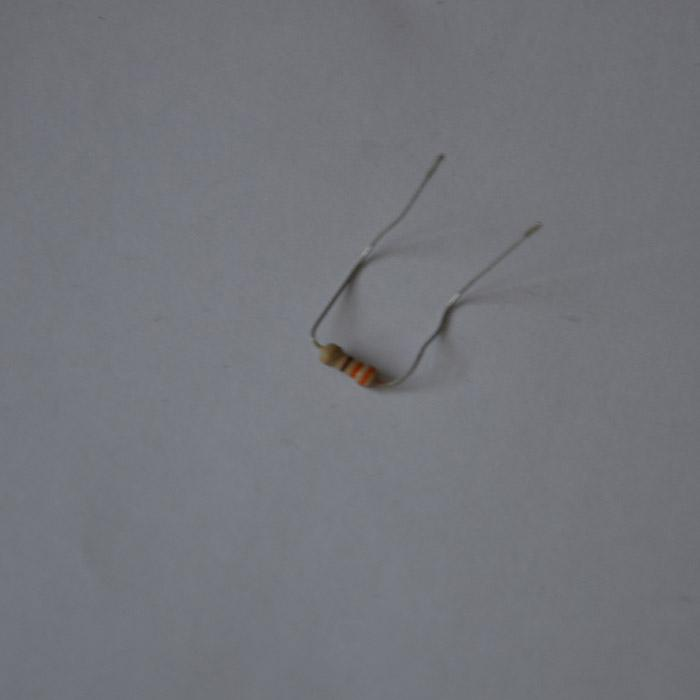resistor: (317, 339, 380, 388)
